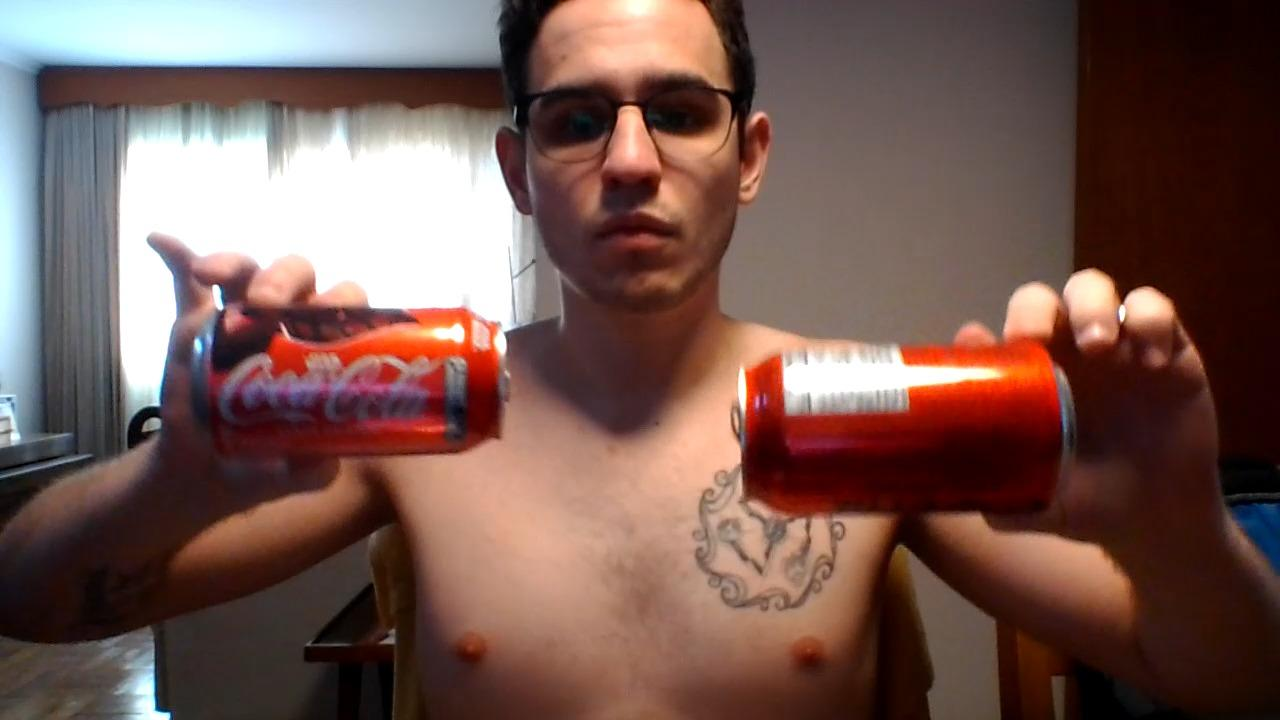coke: (728, 339, 1078, 520), (191, 306, 514, 464)
